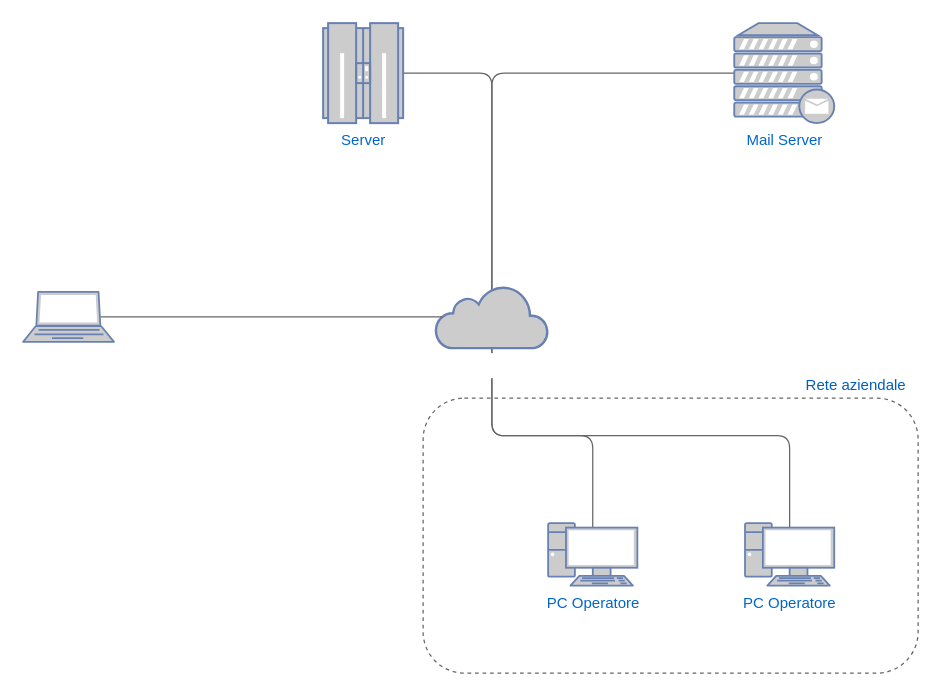
This 940x695 diagram has some shape labels left out. The box of each missing label's shape, as (x1, y1, x2, y2) in pixels:
Internet: (454, 352, 529, 378)
PC Utente: (21, 290, 115, 342)
